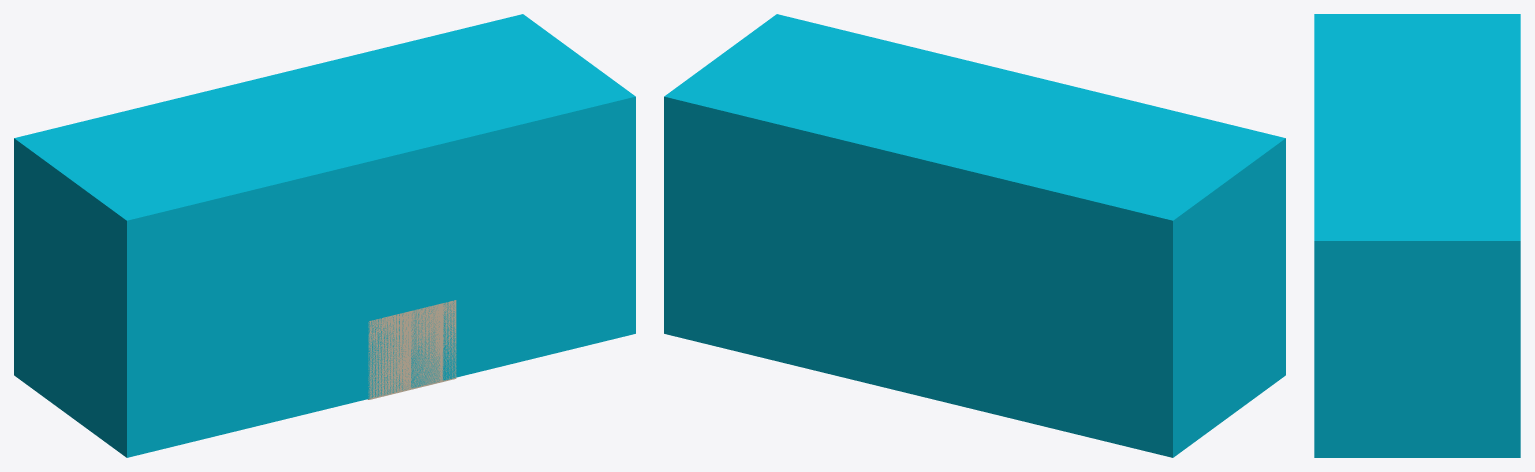
File: furnishingelement-1000mm.glb
3 views of the same model, side by side, from view 1: azimuth 30°, elevation 25°; view 2: azimuth 150°, elevation 25°; view 3: azimuth 270°, elevation 25° (orthographic). The views are drawn at different scales.
Visible parts, largest first — view 1: 0BTBFw6f90Nfh9rP1dl_3S, 0wkEuT1wr1kOyafLY4vyMO; view 2: 0BTBFw6f90Nfh9rP1dl_3S; view 3: 0BTBFw6f90Nfh9rP1dl_3S.
Boxes of the visible parts, bbox=[...] form: 0BTBFw6f90Nfh9rP1dl_3S: bbox=[14, 14, 635, 457]; 0wkEuT1wr1kOyafLY4vyMO: bbox=[368, 300, 456, 399]; 0BTBFw6f90Nfh9rP1dl_3S: bbox=[664, 14, 1285, 457]; 0BTBFw6f90Nfh9rP1dl_3S: bbox=[1314, 14, 1520, 457].
Bounding box in the file's own units: 5.81 × 2.6 × 2.23.
